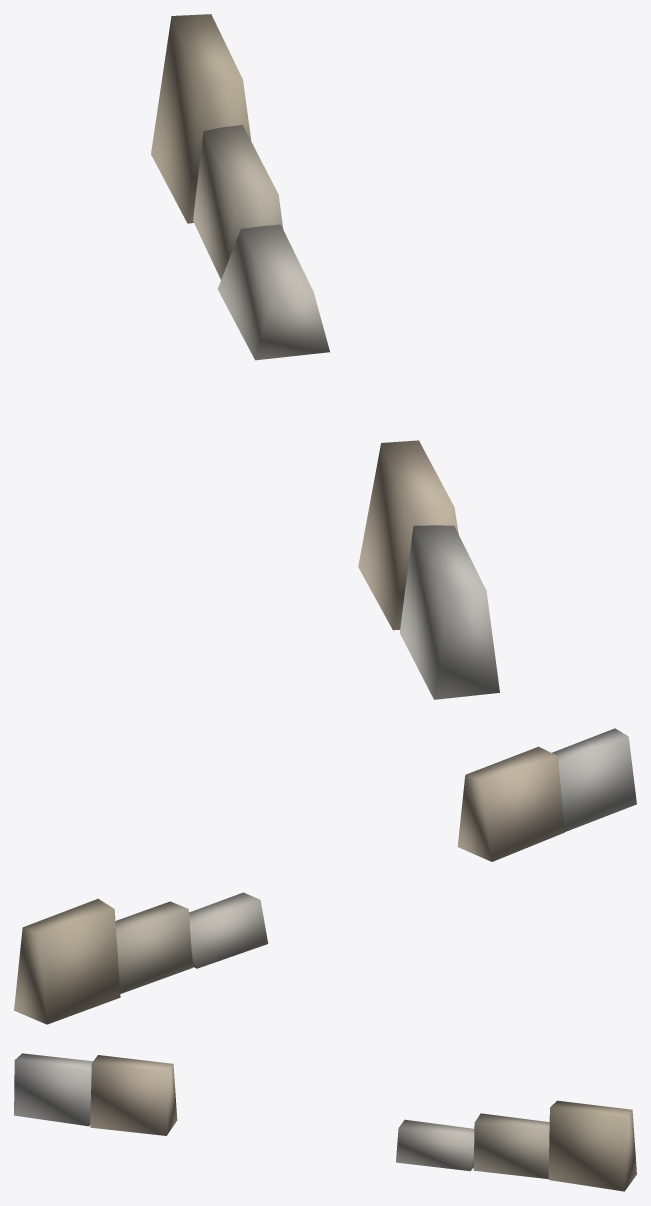
File: farm_18_24_far.glb
The picture shows the model from 3 angles, top to bottom: view 1: azimuth 30°, elevation 25°; view 2: azimuth 150°, elevation 25°; view 3: azimuth 270°, elevation 25°; orthographic projection. The views are drawn at different scales.
Visible parts, largest first — view 1: geometry_0; view 2: geometry_0; view 3: geometry_0.
Part boxes in pixels (left/top/right/bottom): geometry_0: left=151, top=14, right=499, bottom=699; geometry_0: left=14, top=728, right=636, bottom=1024; geometry_0: left=14, top=1053, right=636, bottom=1191.
Bounding box in the file's own units: 4.14 × 1.54 × 11.28.
